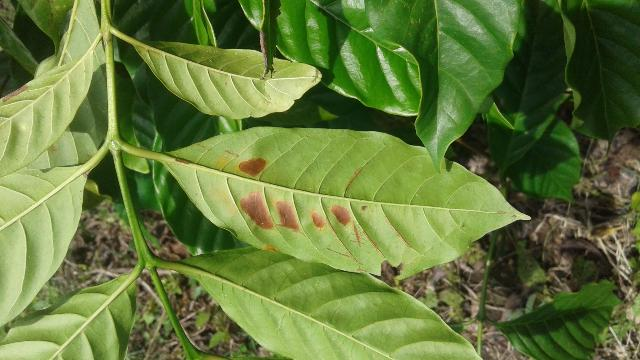red_spider_mite: (162, 124, 535, 285)
